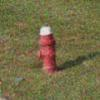a fire hydrant: (36, 24, 60, 74)
